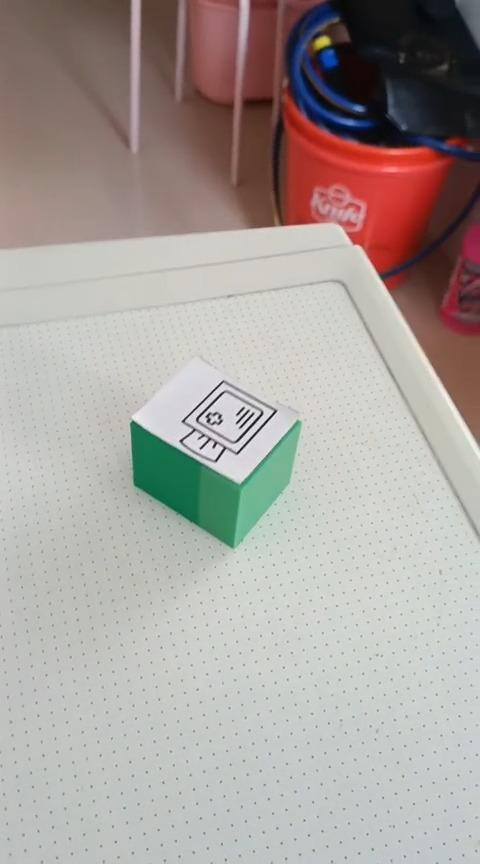Gauze: (128, 354, 302, 549)
